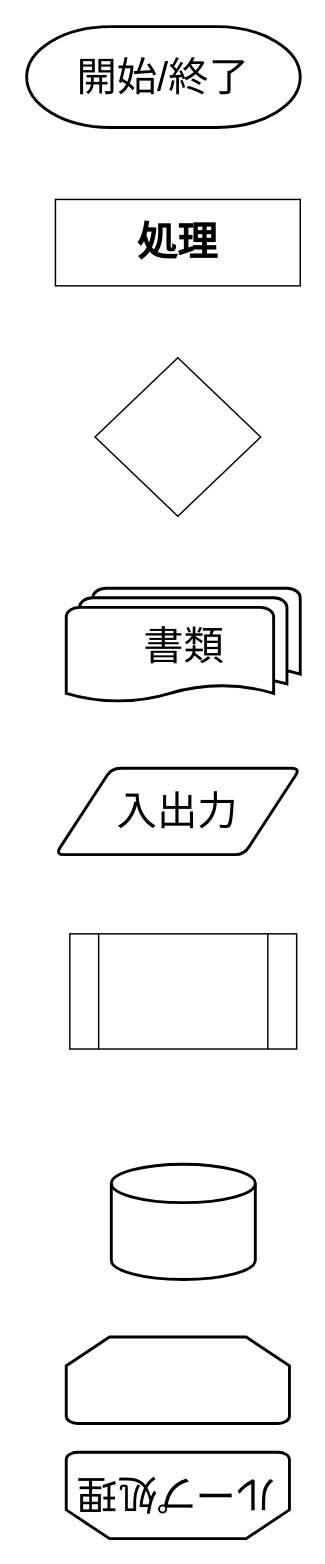
Some shapes in this 325 by 1564 pixel diagram are drawn without their labels. Here are the shapes that lost their labels. From the top down, the centre of each, then its label:
At [177,436]: "判断".
At [182,990]: "定義済処理".
At [182,1221]: "データベース".
